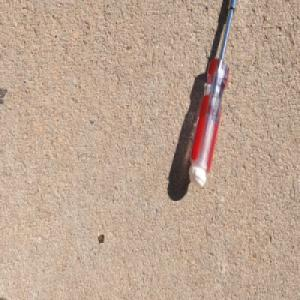Screwdriver: (186, 0, 238, 190)
